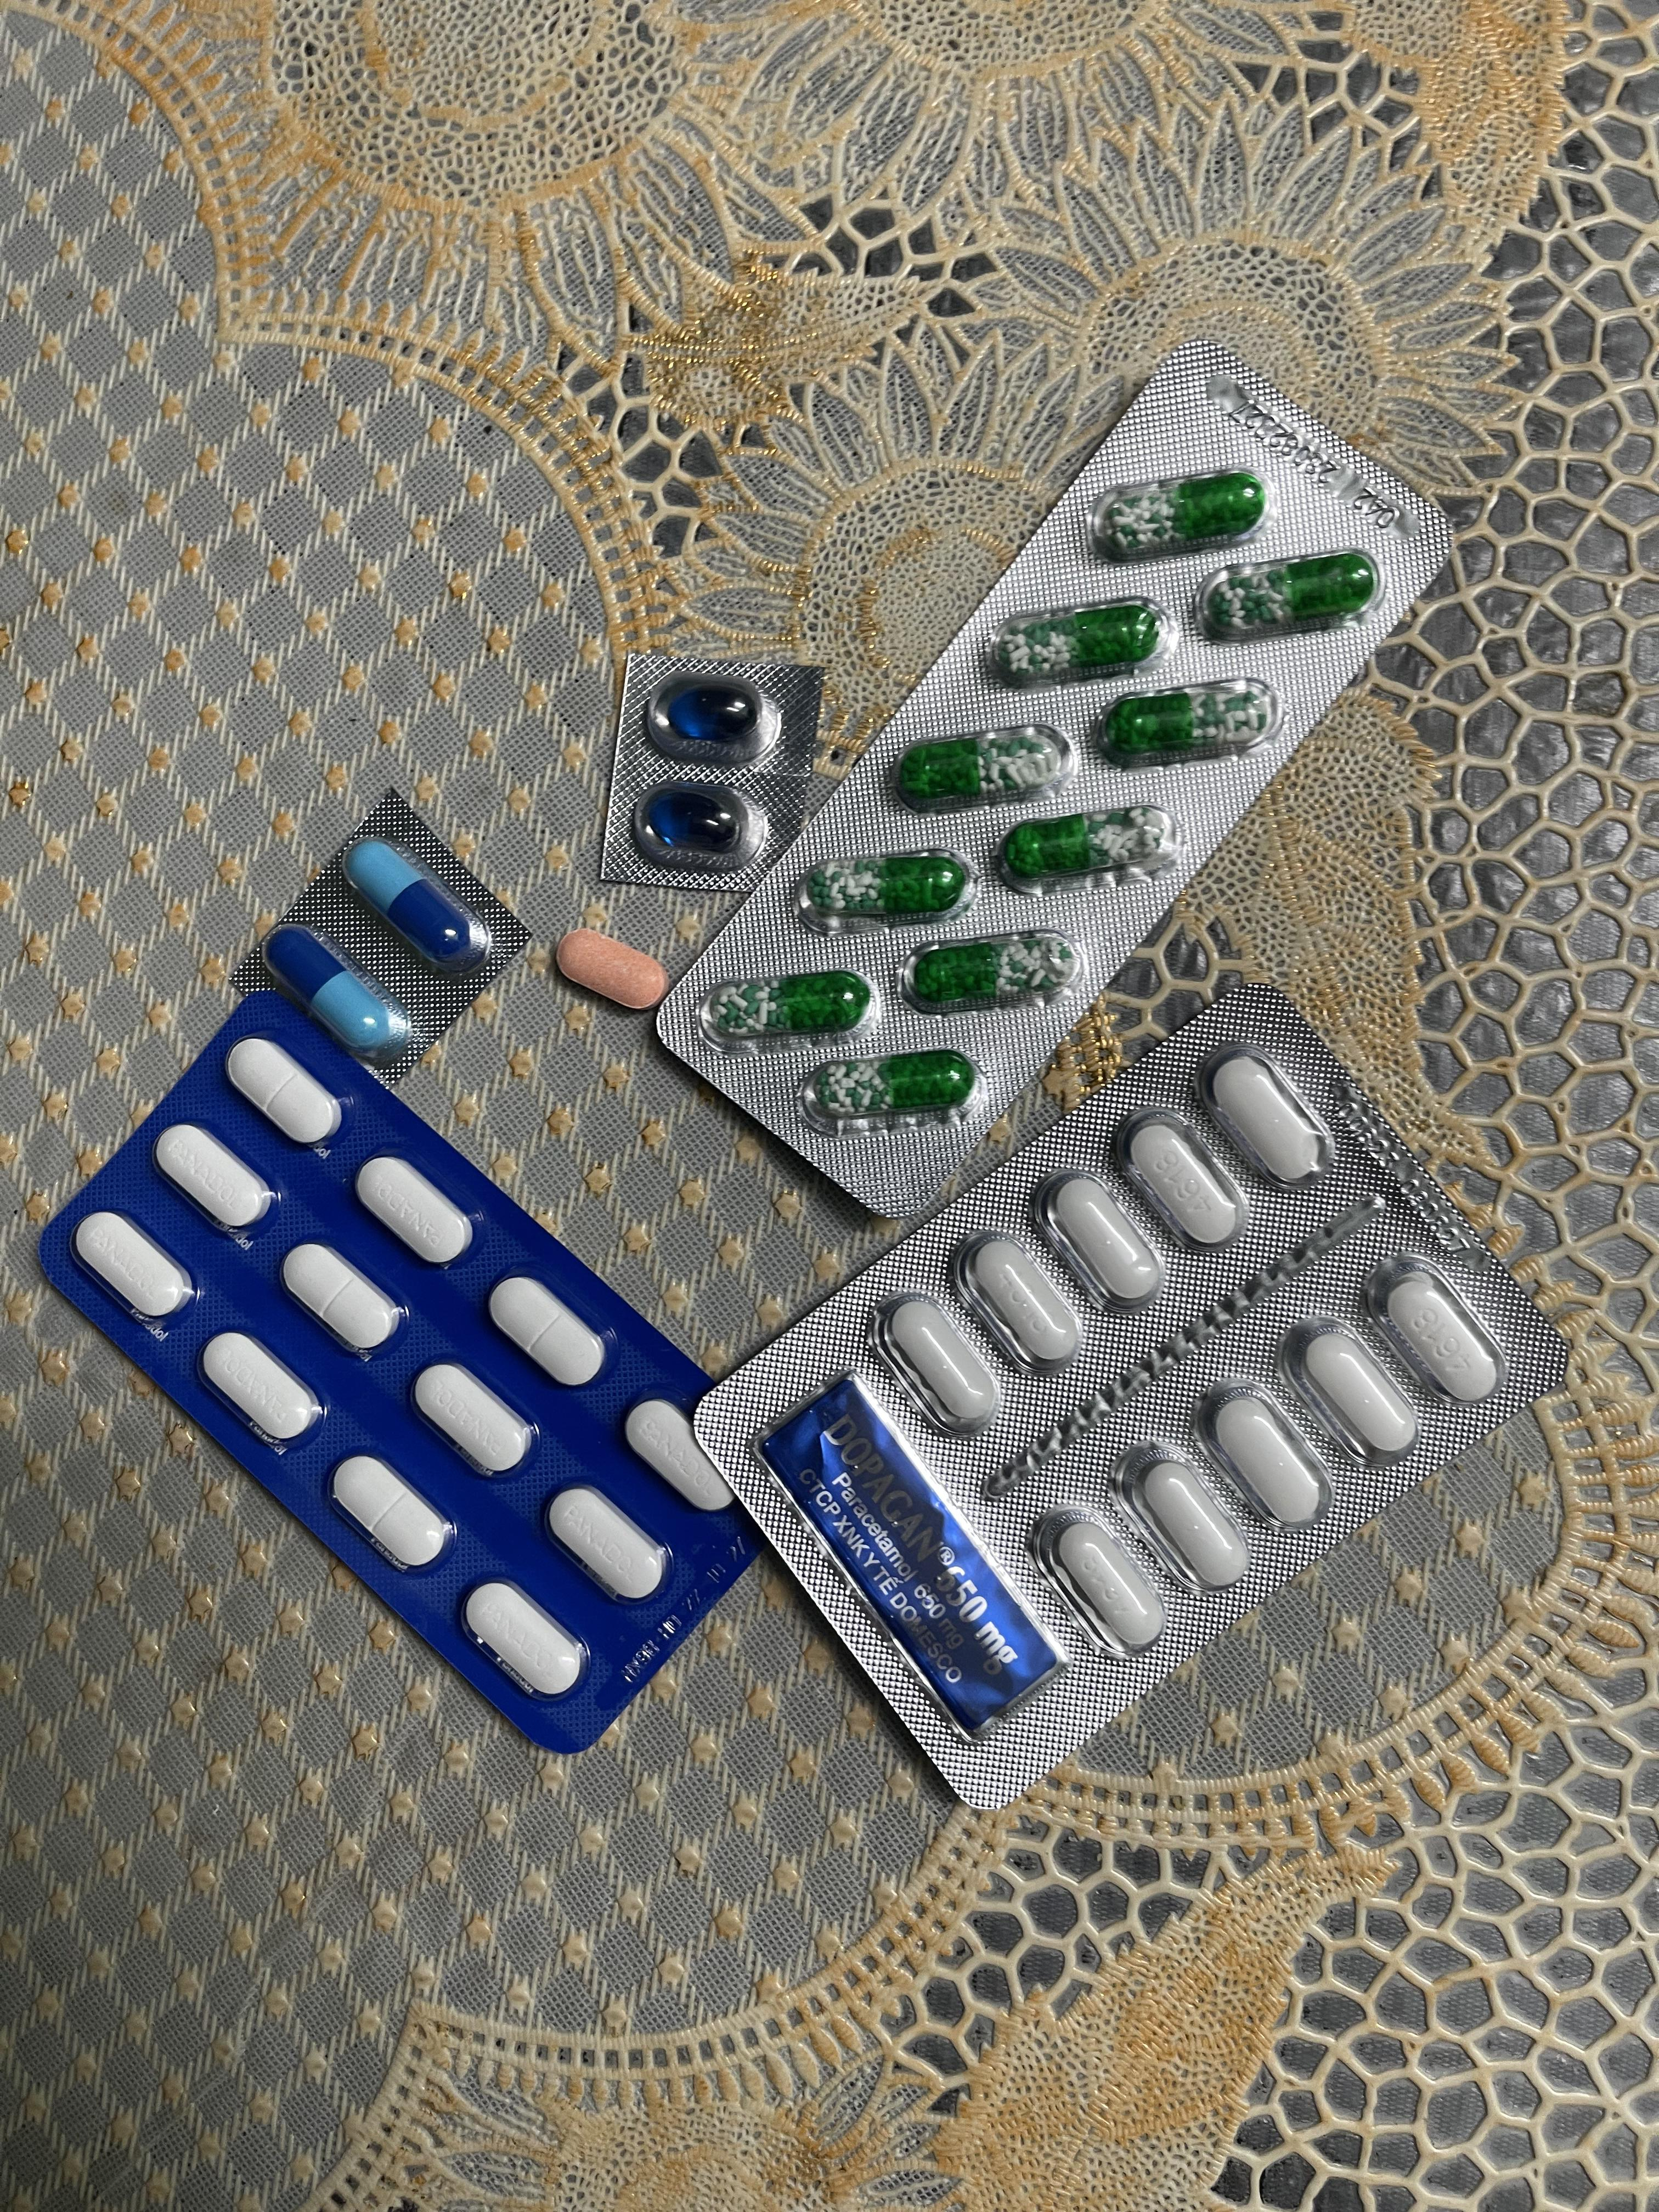Lincomyxin_500mg: (647, 789, 742, 850), (669, 686, 760, 742)
Loratadine_10mg: (554, 930, 669, 1010)
Paracetamol_350mg: (544, 1480, 671, 1601), (462, 1580, 584, 1700), (202, 1331, 321, 1447), (411, 1364, 532, 1477), (331, 1456, 450, 1569), (284, 1244, 403, 1355), (490, 1277, 608, 1388), (155, 1123, 277, 1230), (75, 1211, 192, 1320), (357, 1157, 474, 1263), (221, 1042, 342, 1141), (627, 1397, 730, 1512)
Paracetamol_500mg: (1281, 1313, 1424, 1467), (1366, 1254, 1507, 1409), (1107, 1444, 1249, 1592), (1190, 1381, 1328, 1531), (1028, 1507, 1164, 1655), (1199, 1045, 1338, 1188), (948, 1231, 1086, 1374), (1110, 1111, 1246, 1254), (871, 1291, 1002, 1435), (1032, 1169, 1164, 1310)
Paracetamol_650mg: (908, 928, 1082, 1014), (1202, 552, 1373, 634), (803, 1050, 972, 1132), (999, 596, 1166, 678), (1096, 472, 1263, 554), (999, 805, 1169, 883), (807, 848, 965, 923), (714, 970, 863, 1049), (1105, 686, 1267, 754), (903, 735, 1061, 798)
pill: (345, 836, 495, 975), (261, 927, 410, 1064)
